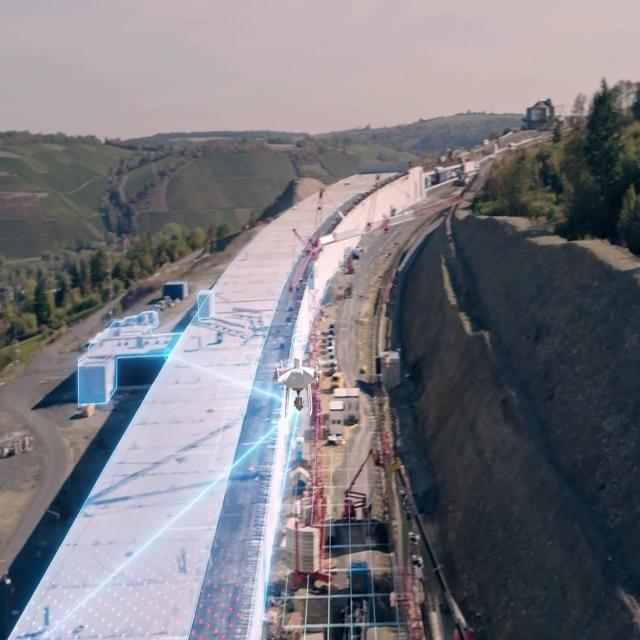drone: (266, 354, 334, 420)
